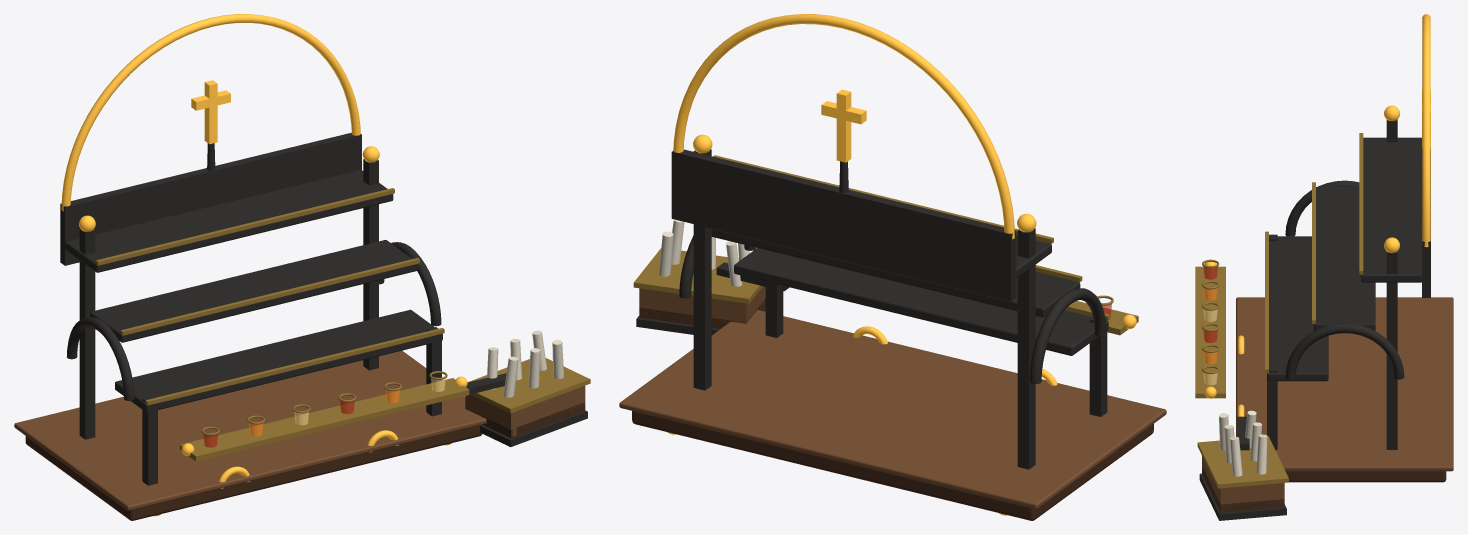
Rendered from rack3.glb.
The picture shows the model from 3 angles, left to right: view 1: azimuth 30°, elevation 25°; view 2: azimuth 150°, elevation 25°; view 3: azimuth 270°, elevation 25°; orthographic projection. The views are drawn at different scales.
Parts seen in each view (by area): view 1: Tier (×3), BaseTop, object 32, Basket, object 9, Base, object 33, object 24, object 4, object 6, object 8, object 28 (+5 smaller); view 2: BaseTop, object 32, Tier (×3), Basket, Base, object 33, object 24, object 28, object 27, Cross, object 25, object 29 (+2 smaller); view 3: BaseTop, Tier (×3), Basket, object 9, object 33, object 28, Base, object 31, object 29, object 27, object 8, object 32 (+3 smaller).
Boxes of the visible parts, x1,y1,x2,y2 form: Tier (×3): (65, 170, 442, 412); BaseTop: (14, 350, 486, 510); object 32: (60, 132, 361, 265); Basket: (465, 330, 590, 447); object 9: (180, 378, 469, 461); Base: (25, 424, 482, 520); object 33: (61, 14, 360, 211); object 24: (79, 228, 95, 439); object 4: (145, 328, 444, 405); object 6: (120, 258, 419, 335); object 8: (96, 188, 394, 265); object 28: (363, 159, 378, 370); BaseTop: (619, 310, 1166, 509); object 32: (671, 149, 1016, 301); Tier (×3): (711, 228, 1108, 355); Basket: (633, 219, 765, 334); Base: (632, 411, 1153, 520); object 33: (673, 14, 1014, 239); object 24: (1017, 228, 1035, 469); object 28: (693, 149, 711, 390); object 27: (1029, 288, 1106, 383); Cross: (821, 89, 866, 162); object 25: (1089, 317, 1107, 416); object 29: (765, 281, 783, 337); BaseTop: (1236, 297, 1453, 471); Tier (×3): (1267, 137, 1421, 381); Basket: (1197, 410, 1288, 520); object 9: (1195, 266, 1225, 398); object 33: (1422, 14, 1430, 247); object 28: (1386, 251, 1397, 449); Base: (1285, 471, 1446, 482); object 31: (1285, 323, 1404, 379); object 29: (1267, 366, 1277, 449); object 27: (1285, 180, 1359, 236); object 8: (1359, 133, 1363, 274); object 32: (1422, 149, 1430, 297).
Size of the model in its own units: 2.74 by 2.29 by 1.43.
